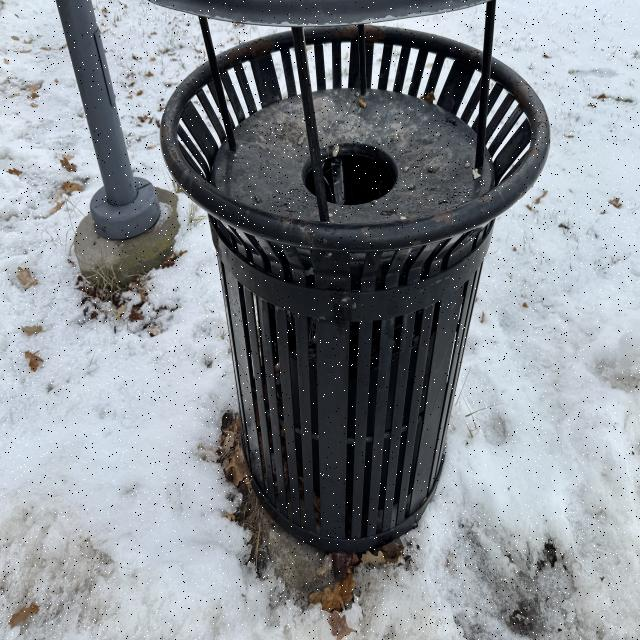Dustbin: (162, 0, 551, 552)
